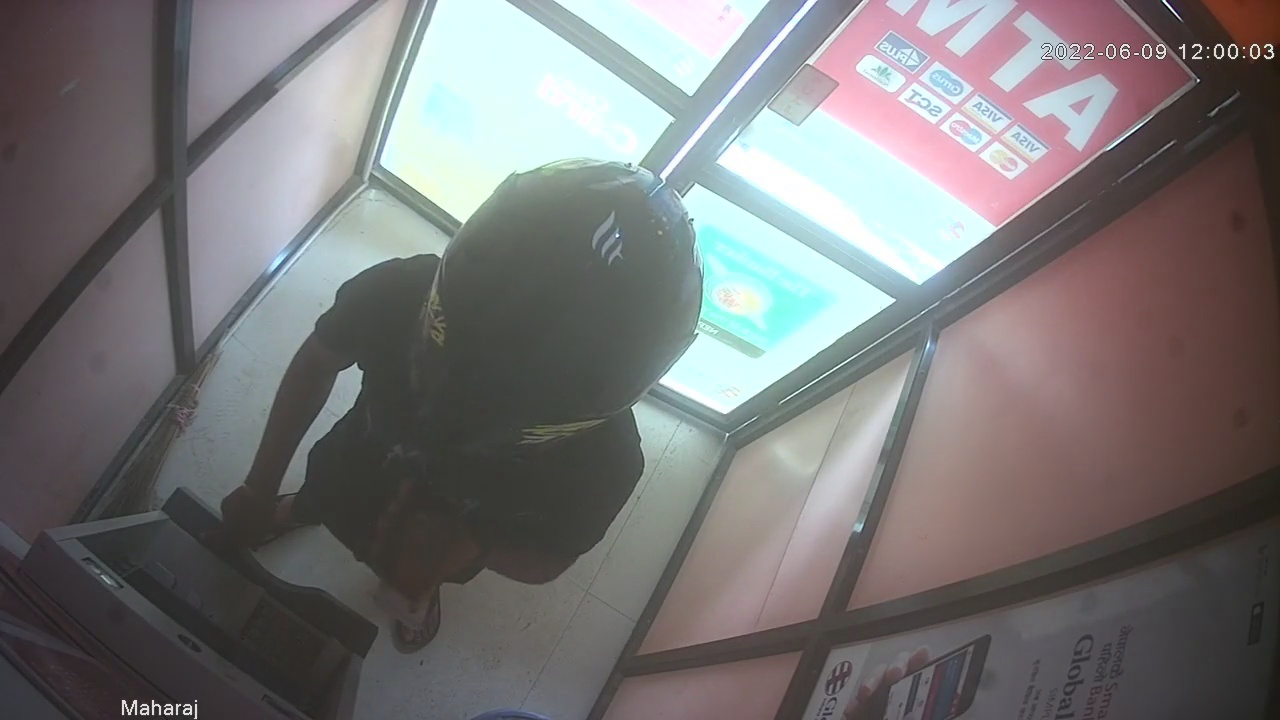helmet: (415, 154, 701, 451)
person: (220, 156, 704, 657)
